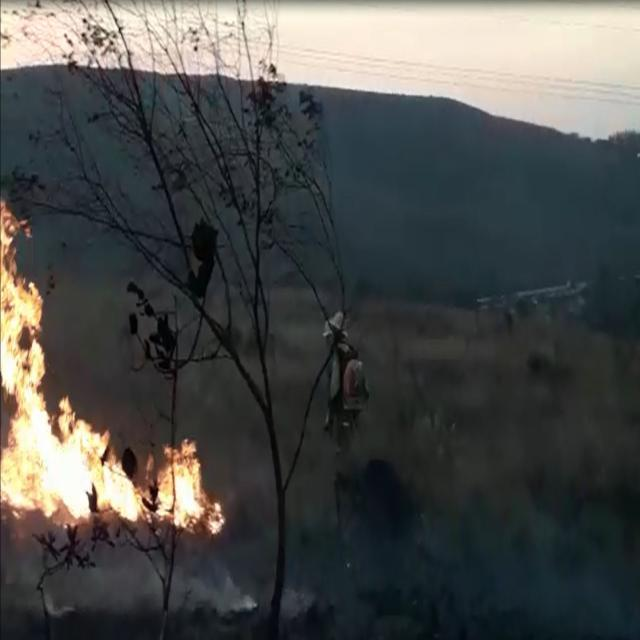Fire: (0, 403, 150, 533), (0, 148, 45, 354), (207, 491, 233, 542)
Smoke: (64, 556, 256, 612), (216, 560, 263, 618), (280, 574, 322, 630), (1, 554, 46, 597), (41, 579, 65, 616)
